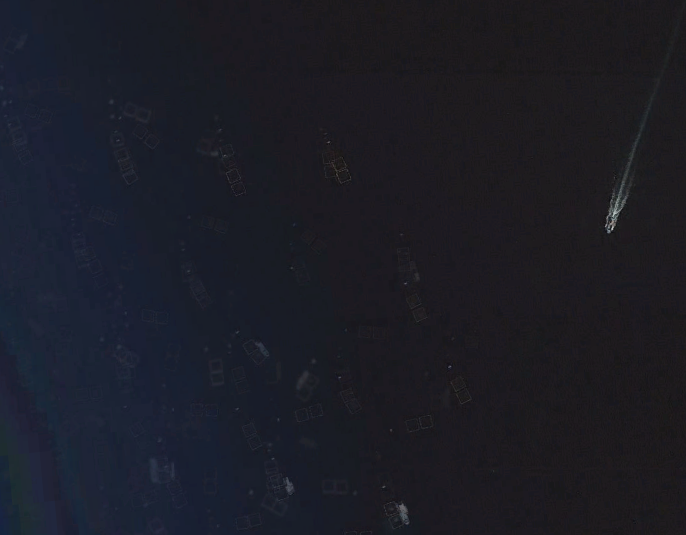ship: (601, 204, 622, 233), (396, 502, 412, 527)
square: (404, 291, 426, 319), (411, 306, 434, 328), (120, 167, 143, 189), (449, 373, 470, 397), (306, 398, 328, 420), (402, 416, 423, 438), (455, 386, 474, 410), (142, 132, 163, 153), (417, 411, 438, 431), (334, 165, 354, 186), (116, 156, 135, 176), (332, 478, 351, 498), (208, 371, 229, 389), (293, 404, 311, 424), (206, 356, 223, 376), (112, 147, 131, 164), (318, 479, 338, 495), (331, 151, 345, 173), (111, 133, 126, 151)
